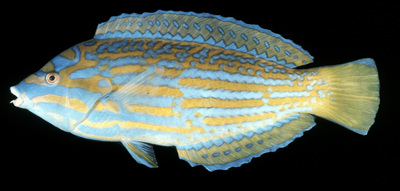fish: (10, 11, 380, 173)
